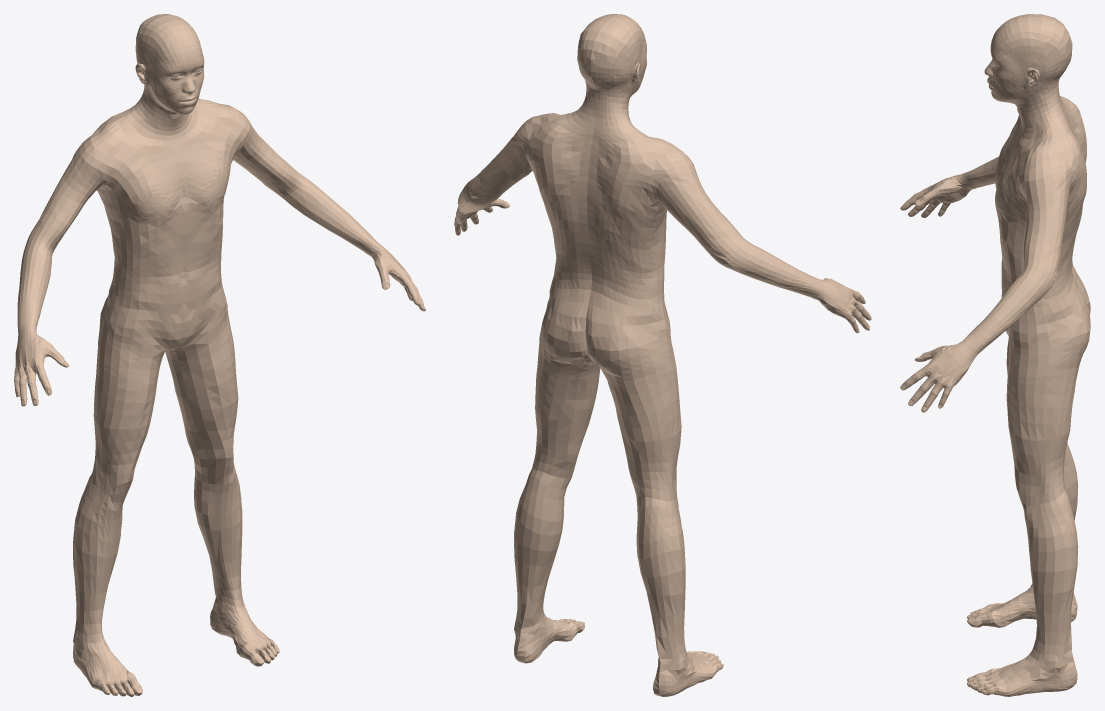
Rendered from male-young-fit-medium.glb.
3 views of the same model, side by side, from view 1: azimuth 30°, elevation 25°; view 2: azimuth 150°, elevation 25°; view 3: azimuth 270°, elevation 25° (orthographic).
Visible parts, largest first — view 1: world; view 2: world; view 3: world.
Boxes of the visible parts, x1,y1,x2,y2 form: world: (14,14,425,696); world: (454,14,871,696); world: (900,14,1090,696).
Size of the model in its own units: 1.24 by 1.89 by 0.5101.
